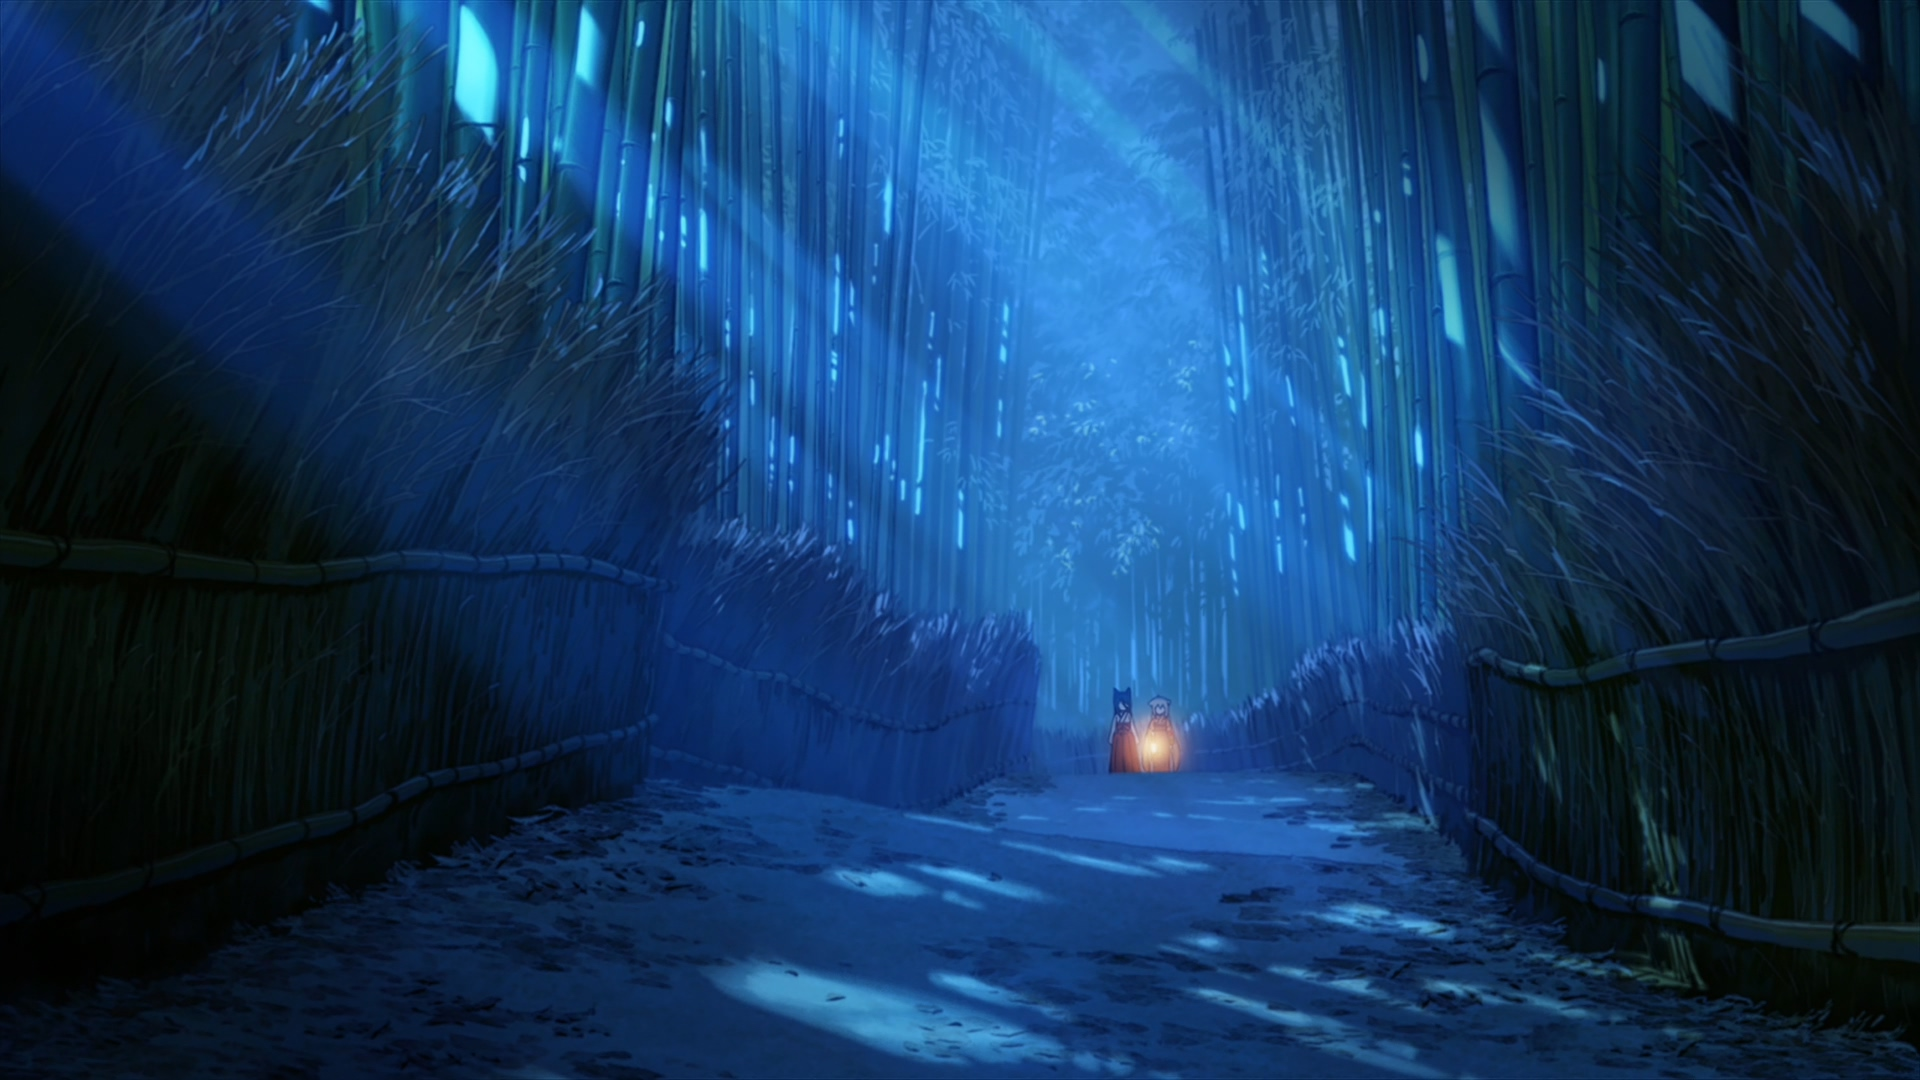柚: (1141, 698, 1179, 775)
皋: (1106, 688, 1138, 774)
